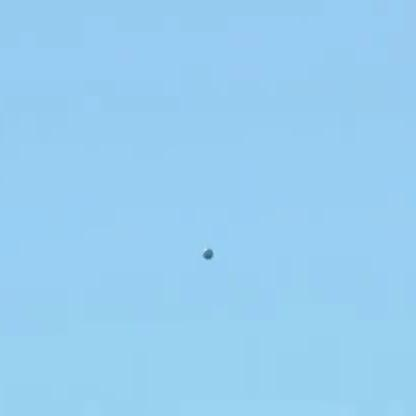golfball: (201, 242, 214, 258)
